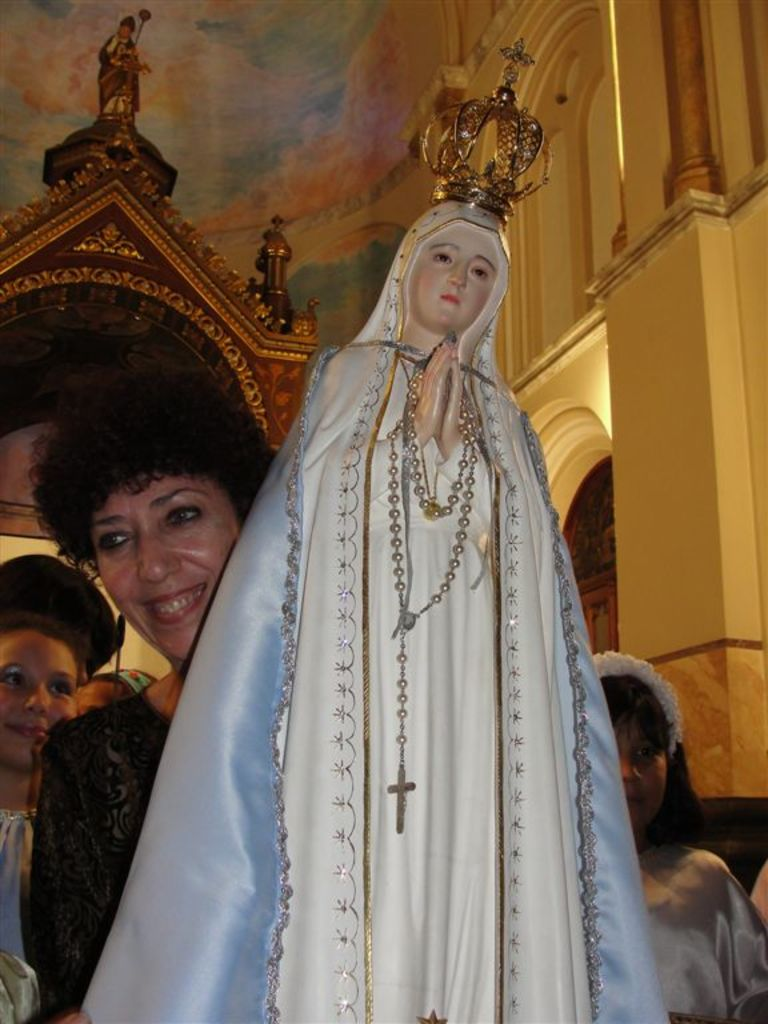face: (92, 416, 232, 668)
